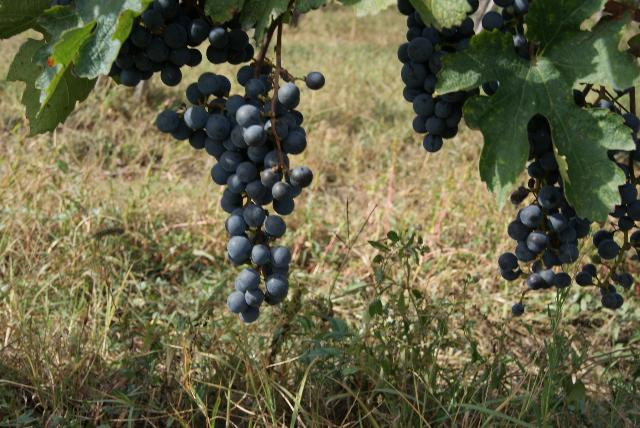grapes: (156, 65, 312, 322)
